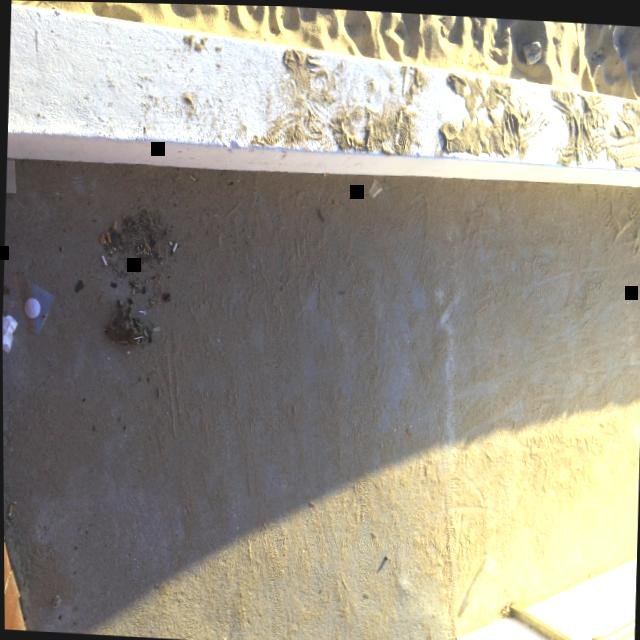Cigarette: (171, 241, 177, 252), (100, 254, 106, 264), (100, 232, 105, 242), (143, 242, 150, 249), (188, 173, 195, 180), (7, 503, 11, 515), (106, 231, 110, 241), (112, 219, 116, 228), (99, 236, 102, 243), (168, 238, 171, 244), (322, 171, 329, 173)
Disposable plastic cup: (368, 177, 381, 195), (483, 551, 495, 568)
Normal paper: (2, 313, 17, 352)
Plastic film: (2, 263, 54, 333)
